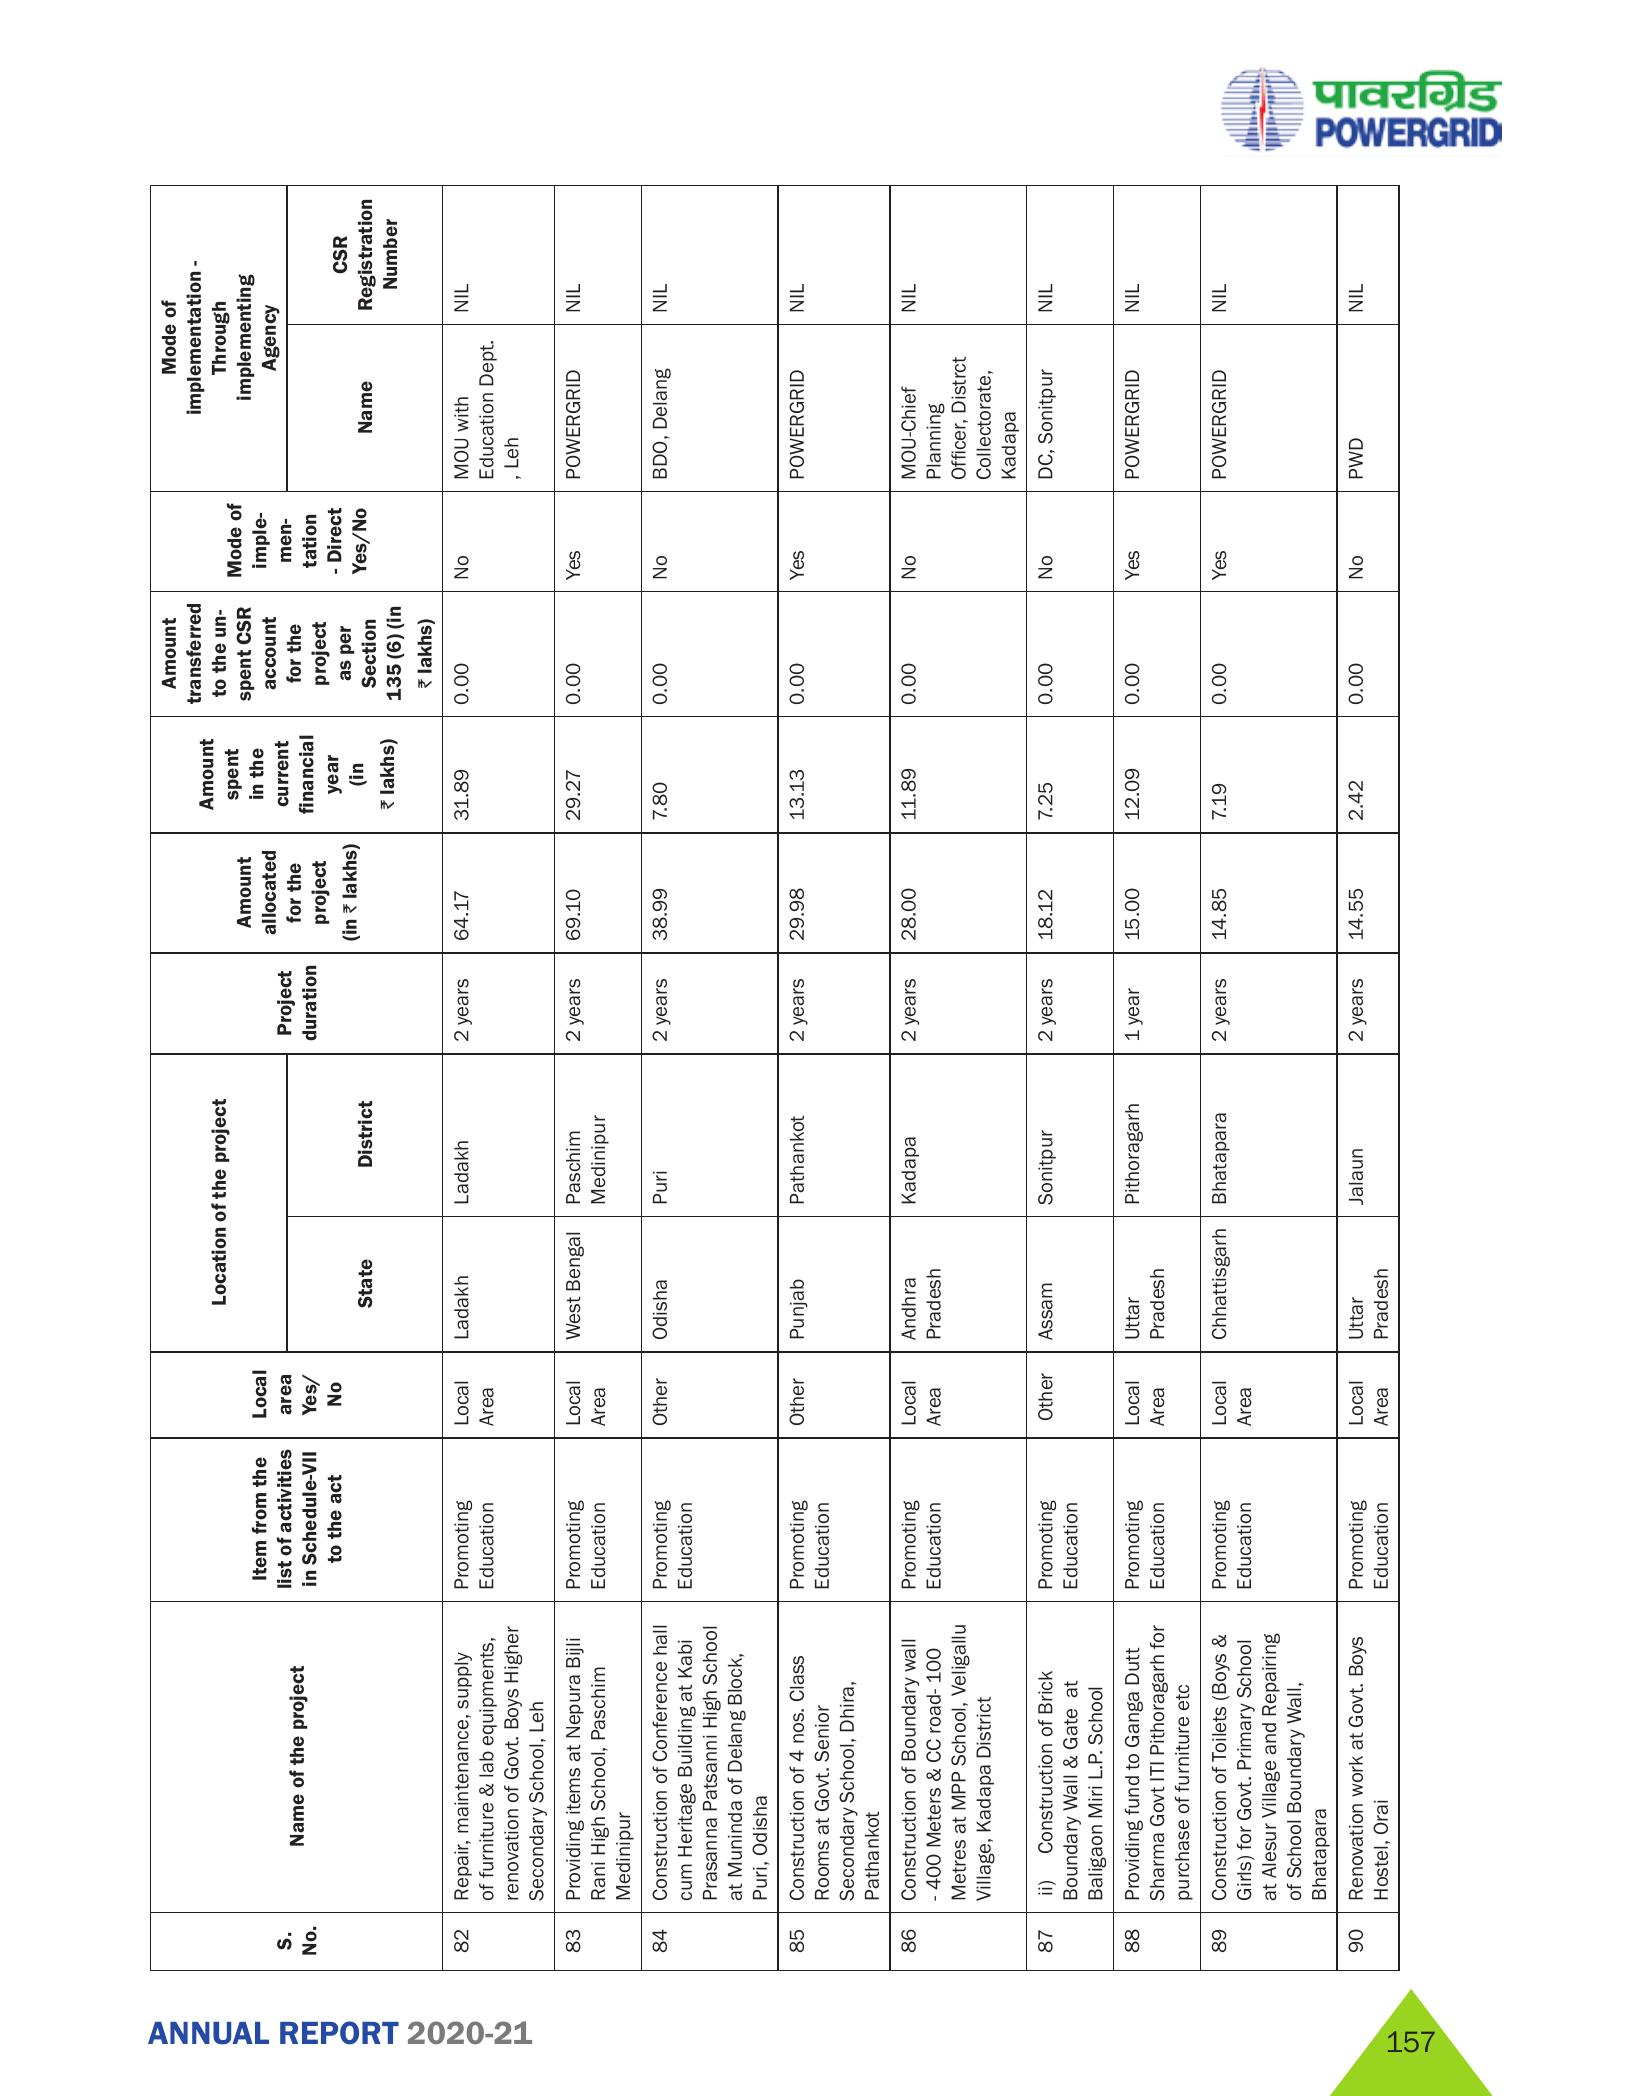Footer: (0, 1968, 1650, 2096)
Header: (0, 0, 1650, 168)
Table: (117, 184, 1437, 1982)
